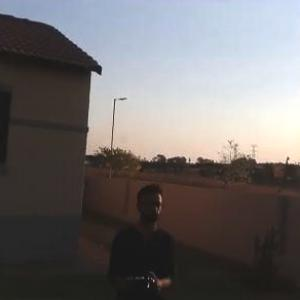follow: (103, 178, 182, 299)
